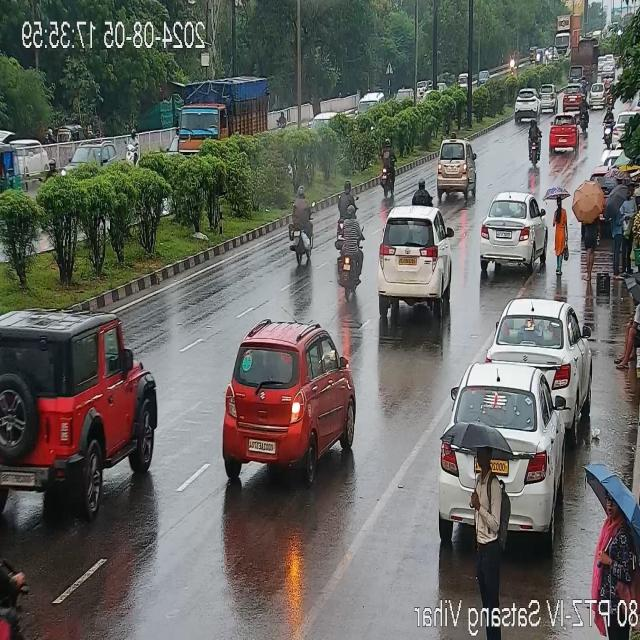2-wheelers: (325, 175, 363, 308), (1, 528, 26, 640), (368, 121, 401, 201), (281, 191, 315, 264), (521, 120, 544, 168), (602, 110, 614, 152)
auto: (374, 206, 454, 310), (436, 141, 478, 200)
car: (0, 307, 166, 513), (434, 364, 582, 546), (214, 322, 352, 480), (490, 300, 590, 404), (476, 192, 548, 266), (550, 115, 582, 156), (511, 88, 541, 120), (584, 80, 610, 110), (558, 87, 582, 112), (566, 62, 584, 88), (598, 58, 616, 79)
pedestrian: (463, 438, 508, 594), (596, 489, 640, 601), (576, 186, 604, 284), (609, 178, 636, 274), (617, 280, 640, 367), (548, 192, 570, 278)
truck: (163, 74, 279, 154), (552, 14, 580, 64)
